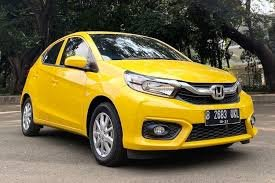mobil: (17, 31, 259, 163)
